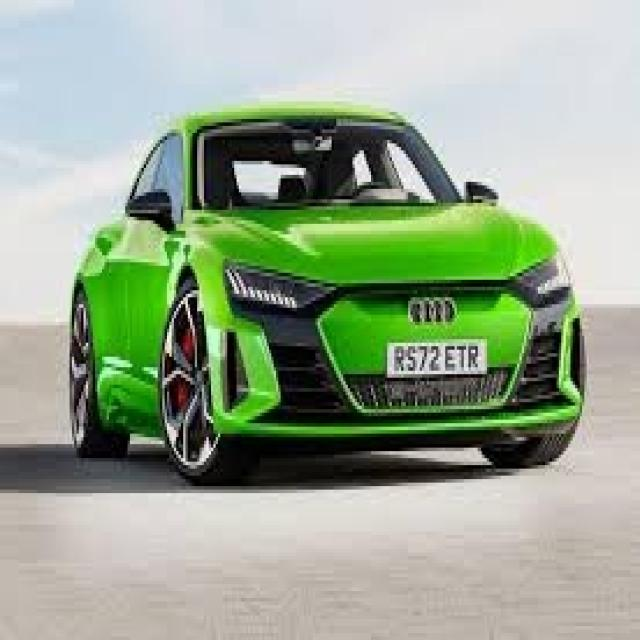green: (59, 96, 582, 505)
